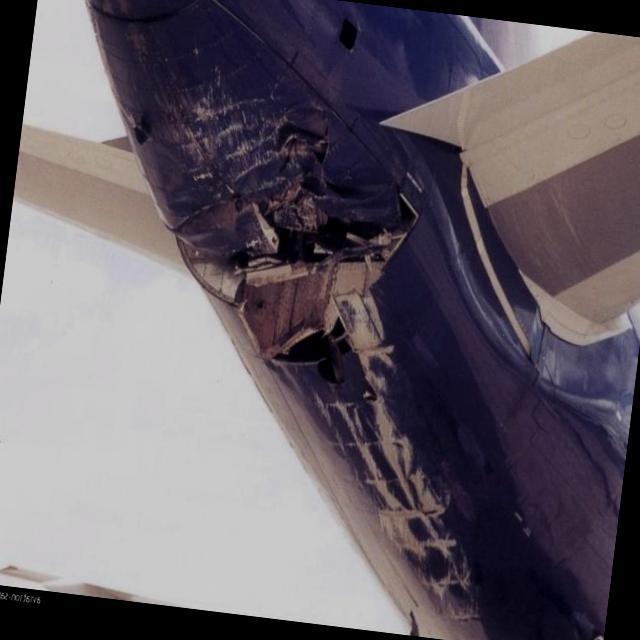dent: (342, 104, 414, 168), (322, 174, 390, 204), (166, 192, 200, 212)
